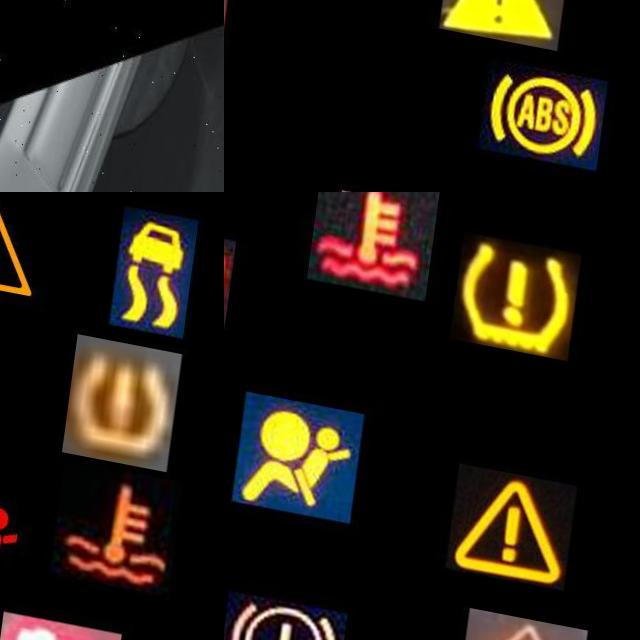Central Warning lamp: (457, 443, 586, 566), (0, 192, 57, 298), (447, 0, 576, 28)
Engine cooling system: (62, 440, 192, 573), (311, 192, 440, 283)
